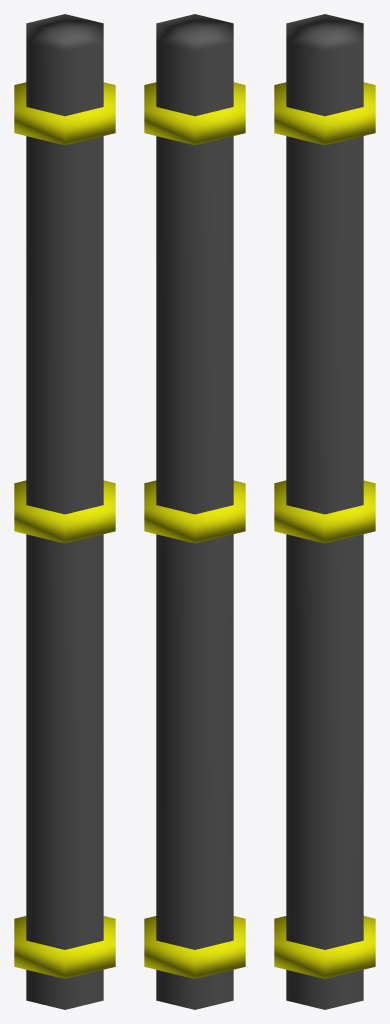
File: pipe.fbx
3 renders of one model, left to right at view 1: azimuth 90°, elevation 25°; view 2: azimuth 150°, elevation 25°; view 3: azimuth 270°, elevation 25°, orthographic.
Parts seen in each view (by area): view 1: pipe; view 2: pipe; view 3: pipe.
Boxes of the visible parts, <box> form: pipe: <box>14,14,115,1009</box>; pipe: <box>144,14,245,1009</box>; pipe: <box>274,14,375,1009</box>.
Size of the model in its own units: 1.2 by 10.83 by 1.04.
